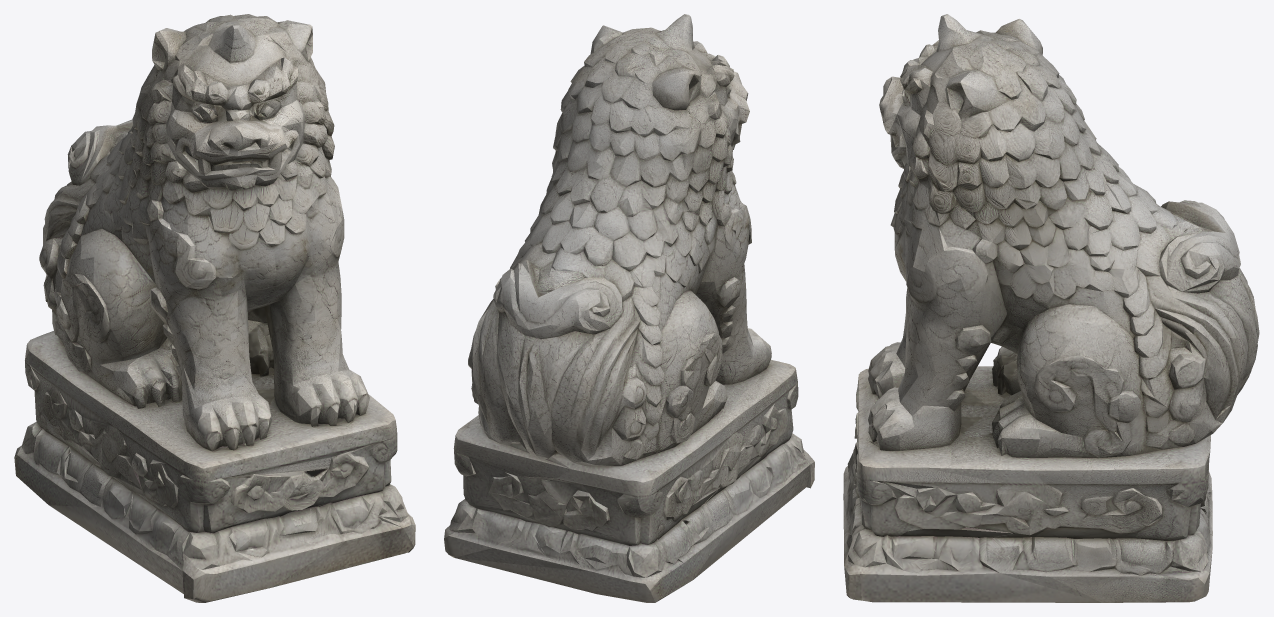
File: haetae.glb
The picture shows the model from 3 angles, left to right: view 1: azimuth 30°, elevation 25°; view 2: azimuth 150°, elevation 25°; view 3: azimuth 270°, elevation 25°; orthographic projection. The views are drawn at different scales.
Size of the model in its own units: 0.8933 by 1.9 by 1.36.
Materials: 1 (1 with a texture image).
